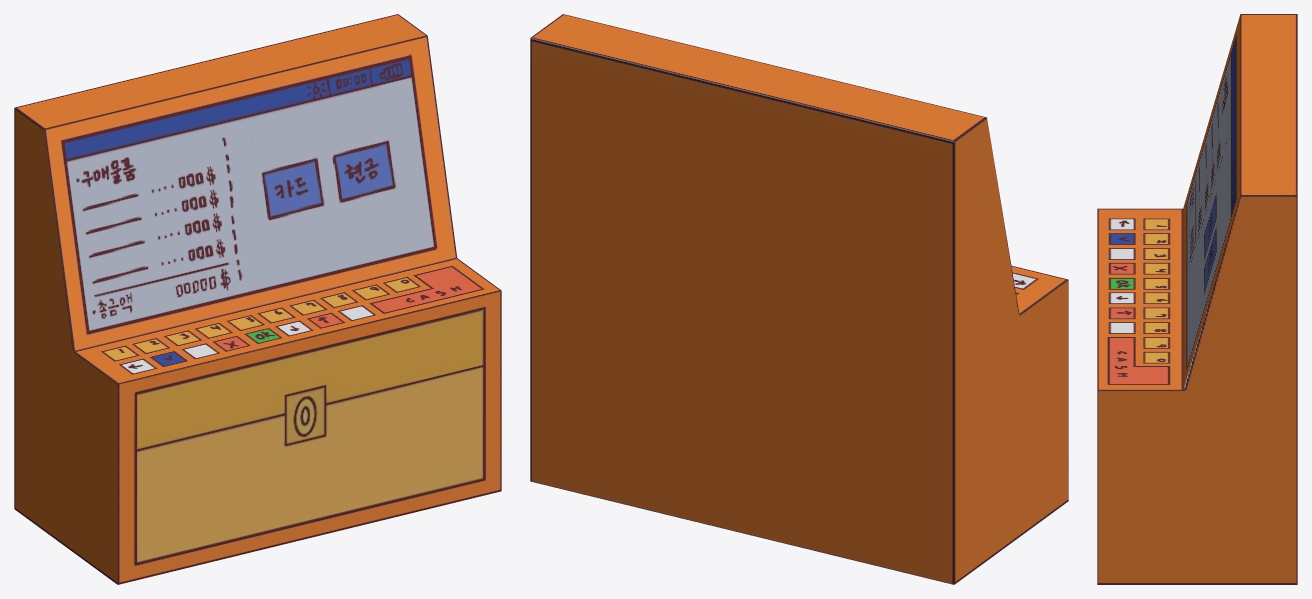
File: Camera_Pos.fbx
The picture shows the model from 3 angles, left to right: view 1: azimuth 30°, elevation 25°; view 2: azimuth 150°, elevation 25°; view 3: azimuth 270°, elevation 25°; orthographic projection. The views are drawn at different scales.
Parts seen in each view (by area): view 1: Box001; view 2: Box001; view 3: Box001.
Part boxes in pixels (x1,y1,x2,y2): Box001: (14, 14, 501, 584); Box001: (530, 14, 1068, 584); Box001: (1097, 14, 1297, 584).
Size of the model in its own units: 30 by 30 by 14.
1 material, 1 textured.
